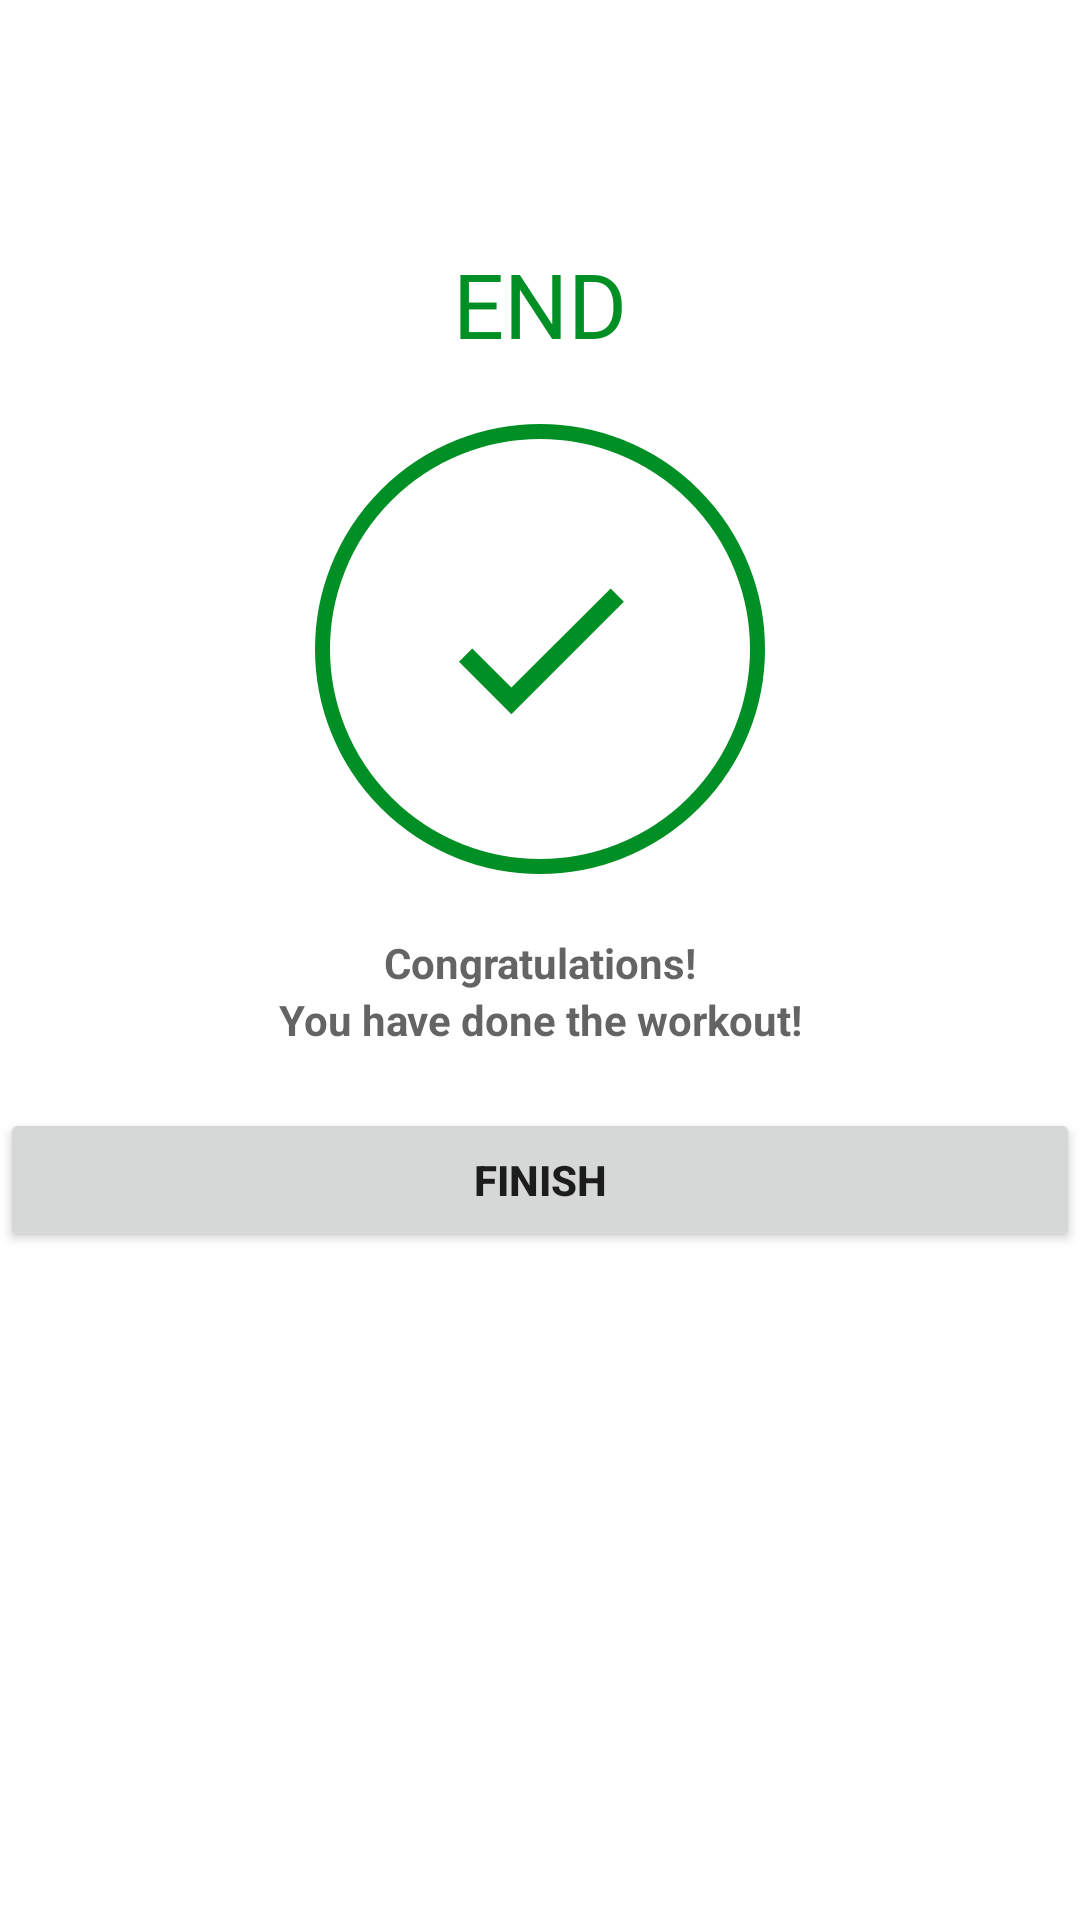

Icons on this 1080 × 1920 Android screen, each with its box as (x1=x1, y1=y1, x2=x2, y2=y2):
check: (x1=459, y1=588, x2=624, y2=714)
